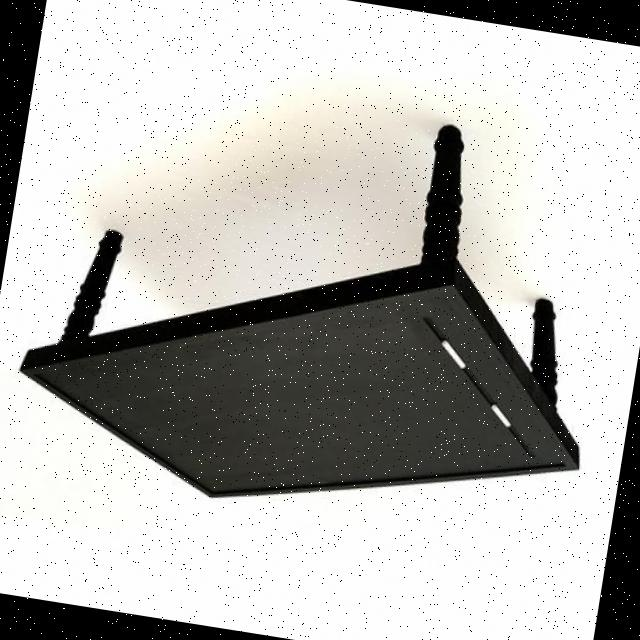Table: (0, 6, 640, 577)
